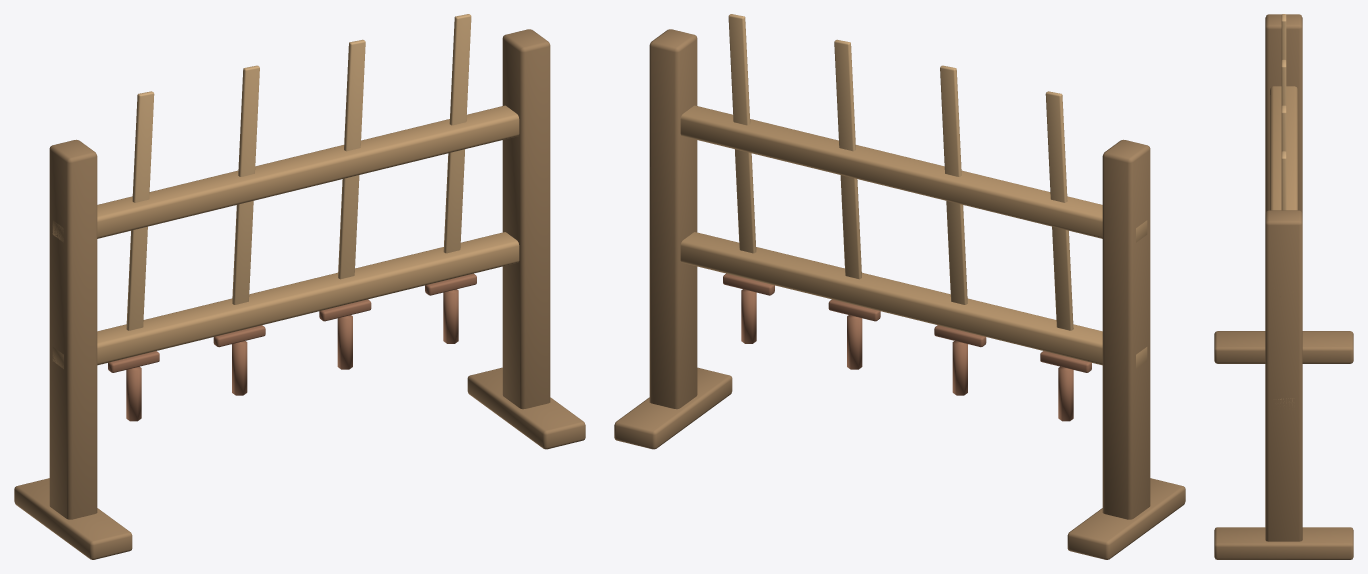
File: estante_armas.glb
3 views of the same model, side by side, from view 1: azimuth 30°, elevation 25°; view 2: azimuth 150°, elevation 25°; view 3: azimuth 270°, elevation 25° (orthographic). The views are drawn at different scales.
Parts seen in each view (by area): view 1: estante_armas; view 2: estante_armas; view 3: estante_armas.
Part boxes in pixels (<box>): estante_armas: <box>14,14,585,559</box>; estante_armas: <box>614,14,1185,559</box>; estante_armas: <box>1214,14,1353,559</box>.
Size of the model in its own units: 1.64 by 1.32 by 0.45.
